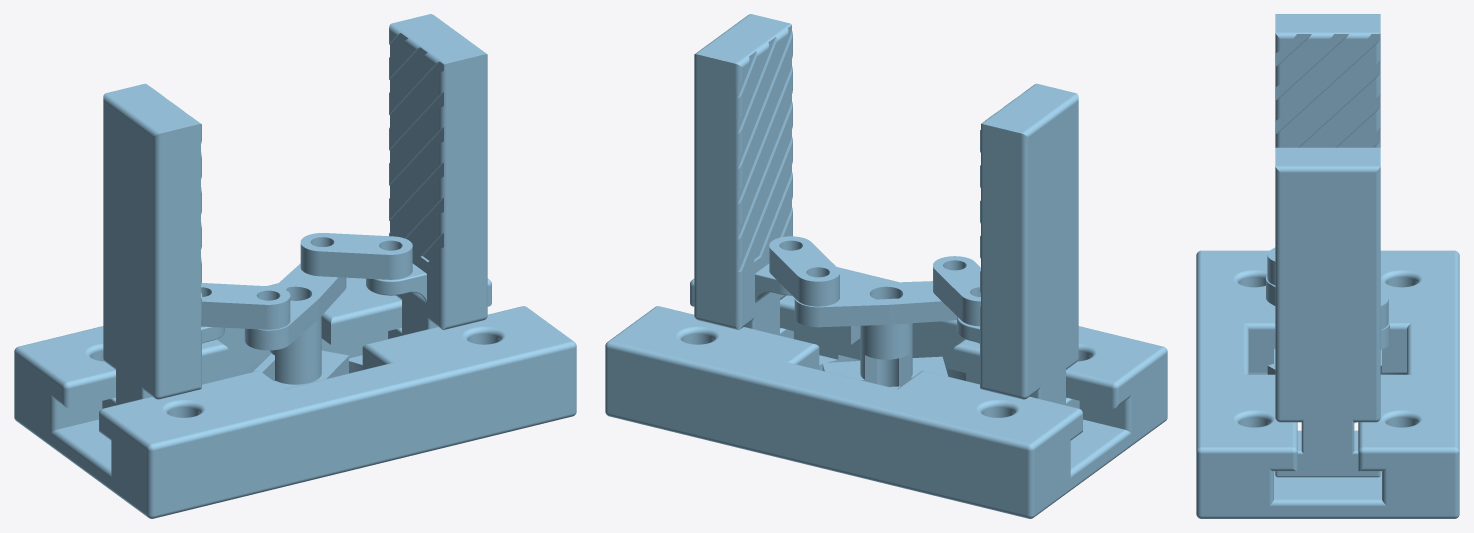
Rendered from tool_gripper.dae.
The picture shows the model from 3 angles, left to right: view 1: azimuth 30°, elevation 25°; view 2: azimuth 150°, elevation 25°; view 3: azimuth 270°, elevation 25°; orthographic projection. The views are drawn at different scales.
Parts seen in each view (by area): view 1: Part 1 (×3), left (×2), middle; view 2: Part 1 (×3), middle, left (×2); view 3: Part 1 (×3), middle.
Part boxes in pixels (bbox=[...]): Part 1 (×3): bbox=[14, 14, 576, 518]; left (×2): bbox=[201, 233, 412, 329]; middle: bbox=[244, 263, 348, 388]; Part 1 (×3): bbox=[605, 14, 1167, 518]; middle: bbox=[794, 281, 957, 388]; left (×2): bbox=[769, 236, 980, 326]; Part 1 (×3): bbox=[1196, 14, 1459, 518]; middle: bbox=[1266, 275, 1389, 422].
Size of the model in its own units: 0.09 by 0.05 by 0.0692.
